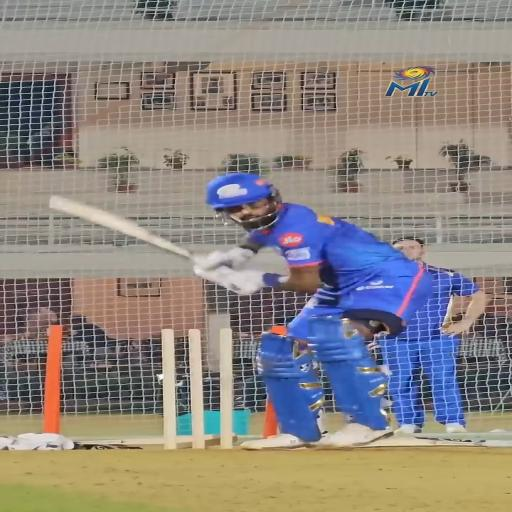Cricket bat: (50, 196, 191, 259)
